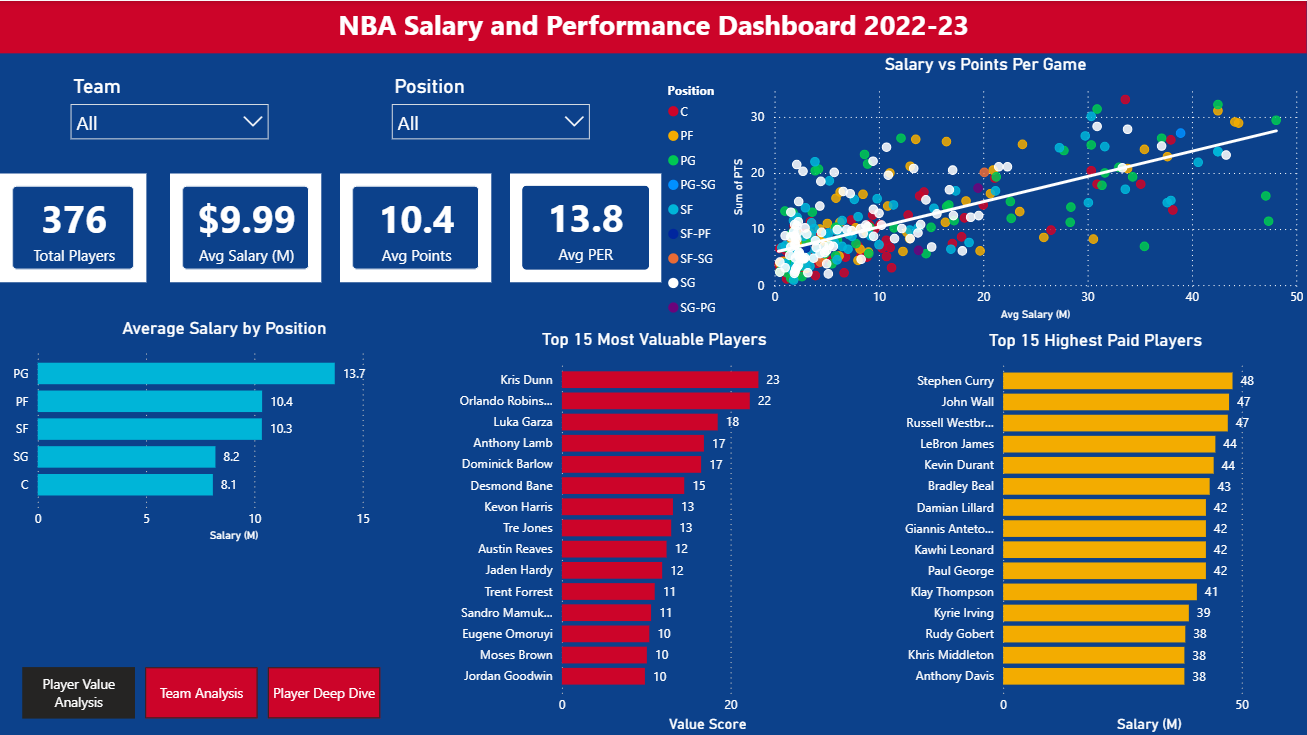

The dashboard page shown, as its layout file describes it:
{"tool":"powerbi","page":{"name":"Player Value Analysis","canvas":[1280,720],"ordinal":0},"visuals":[{"type":"textbox","box":[0,0,1279.1,51.4],"z":0},{"type":"cardVisual","fields":{"Data":["_Measures.Total Players"]},"box":[0,168.8,148.4,106.4],"z":1,"group":"g1"},{"type":"cardVisual","fields":{"Data":["_Measures.Avg PER"]},"box":[498.8,168.8,148.4,106.4],"z":2,"group":"g1"},{"type":"cardVisual","fields":{"Data":["_Measures.Avg Points"]},"box":[332.5,168.8,148.4,106.4],"z":3,"group":"g1"},{"type":"cardVisual","fields":{"Data":["_Measures.Avg Salary"]},"box":[166.3,168.8,148.4,106.4],"z":4,"group":"g1"},{"type":"group","id":"g1","title":"Group 1","box":[0,168.8,648.1,106.4],"z":5},{"type":"scatterChart","title":"Salary vs Points Per Game","fields":{"X":["_Measures.Avg Salary (M)"],"Y":["Sum(nba_players_clean.PTS)"],"Category":["nba_players_clean.Player Name"],"Series":["nba_players_clean.Position"]},"box":[648.1,51.4,632.2,266.6],"z":6},{"type":"clusteredBarChart","title":"Top 15 Most Valuable Players","fields":{"Category":["top_value.Player Name"],"Y":["Sum(top_value.Value_Score)"]},"box":[432.9,320.4,414.5,399.9],"z":7},{"type":"clusteredBarChart","title":"Top 15 Highest Paid Players","fields":{"Category":["top_paid.Player Name"],"Y":["Sum(top_paid.Salary_M)"]},"box":[864.5,321.6,414.5,398.6],"z":8},{"type":"clusteredBarChart","title":"Average Salary by Position","fields":{"Category":["position_salary.Position"],"Y":["Avg(position_salary.avg_salary)"]},"box":[6.1,309.4,426.8,225],"z":9},{"type":"slicer","fields":{"Values":["nba_players_clean.Position"]},"box":[373,67.3,214,78.3],"z":10},{"type":"slicer","fields":{"Values":["nba_players_clean.Team"]},"box":[58.7,67.3,214,78.3],"z":11},{"type":"pageNavigator","box":[21.8,651.7,351.8,50.4],"z":12}]}

Visuals, with their boxes in screenshot pixels (x1, y1, x2, y2), scaled from the page's 1280x720 canvas onto the 1307x735 screenshot:
textbox: BBox(0, 0, 1306, 52)
cardVisual - _Measures.Total Players: BBox(0, 172, 152, 281)
cardVisual - _Measures.Avg PER: BBox(509, 172, 661, 281)
cardVisual - _Measures.Avg Points: BBox(340, 172, 491, 281)
cardVisual - _Measures.Avg Salary: BBox(170, 172, 321, 281)
"Group 1" group: BBox(0, 172, 662, 281)
"Salary vs Points Per Game" scatterChart: BBox(662, 52, 1306, 325)
"Top 15 Most Valuable Players" clusteredBarChart: BBox(442, 327, 865, 734)
"Top 15 Highest Paid Players" clusteredBarChart: BBox(883, 328, 1306, 734)
"Average Salary by Position" clusteredBarChart: BBox(6, 316, 442, 546)
slicer - nba_players_clean.Position: BBox(381, 69, 599, 149)
slicer - nba_players_clean.Team: BBox(60, 69, 278, 149)
pageNavigator: BBox(22, 665, 381, 717)
